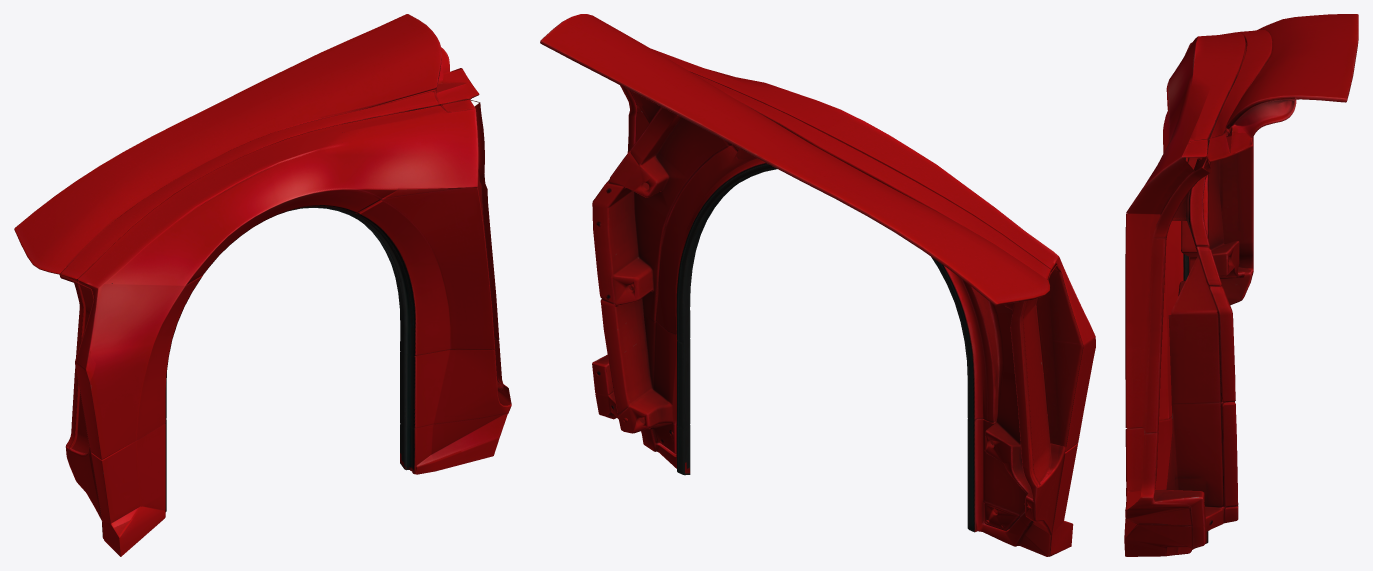
Rendered from red+angular+arch+3d+model.fbx.
The picture shows the model from 3 angles, left to right: view 1: azimuth 30°, elevation 25°; view 2: azimuth 150°, elevation 25°; view 3: azimuth 270°, elevation 25°; orthographic projection. The views are drawn at different scales.
Parts seen in each view (by area): view 1: e9f8b1db_260f_45d3_a4c4_0b2d60f25eb5; view 2: e9f8b1db_260f_45d3_a4c4_0b2d60f25eb5; view 3: e9f8b1db_260f_45d3_a4c4_0b2d60f25eb5.
Boxes of the visible parts, left/top/right/bottom form: e9f8b1db_260f_45d3_a4c4_0b2d60f25eb5: left=14, top=14, right=511, bottom=556; e9f8b1db_260f_45d3_a4c4_0b2d60f25eb5: left=540, top=14, right=1095, bottom=556; e9f8b1db_260f_45d3_a4c4_0b2d60f25eb5: left=1124, top=14, right=1358, bottom=556.
Bounding box in the file's own units: 0.9995 × 0.9175 × 0.397.
1 material, 1 textured.
